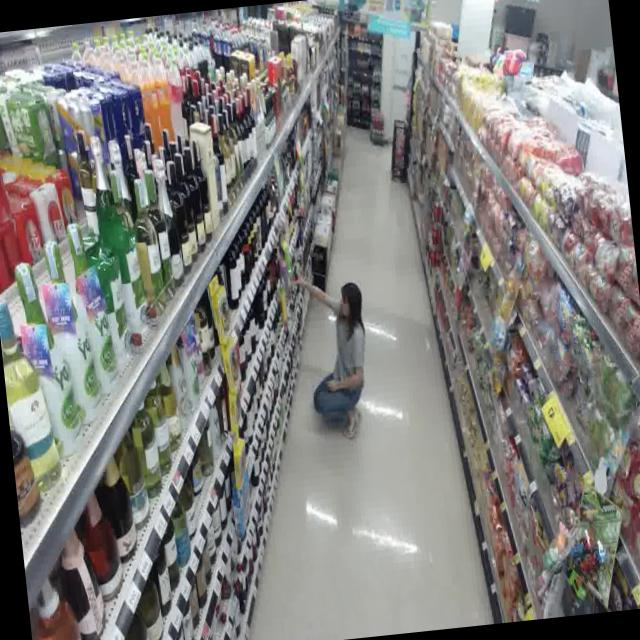pickup: (271, 232, 396, 450)
